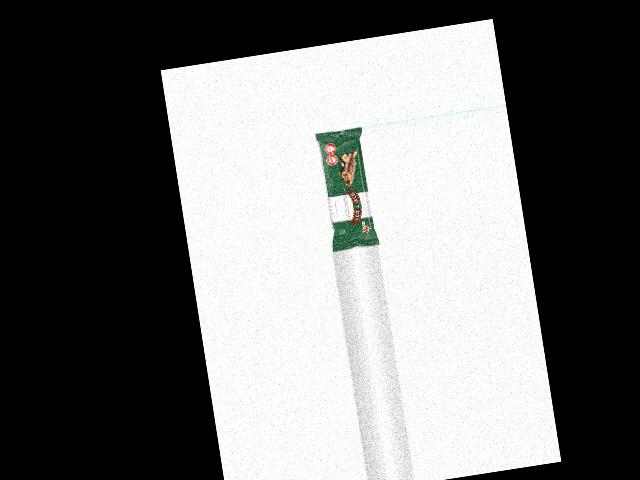chocolate: (312, 126, 379, 254)
